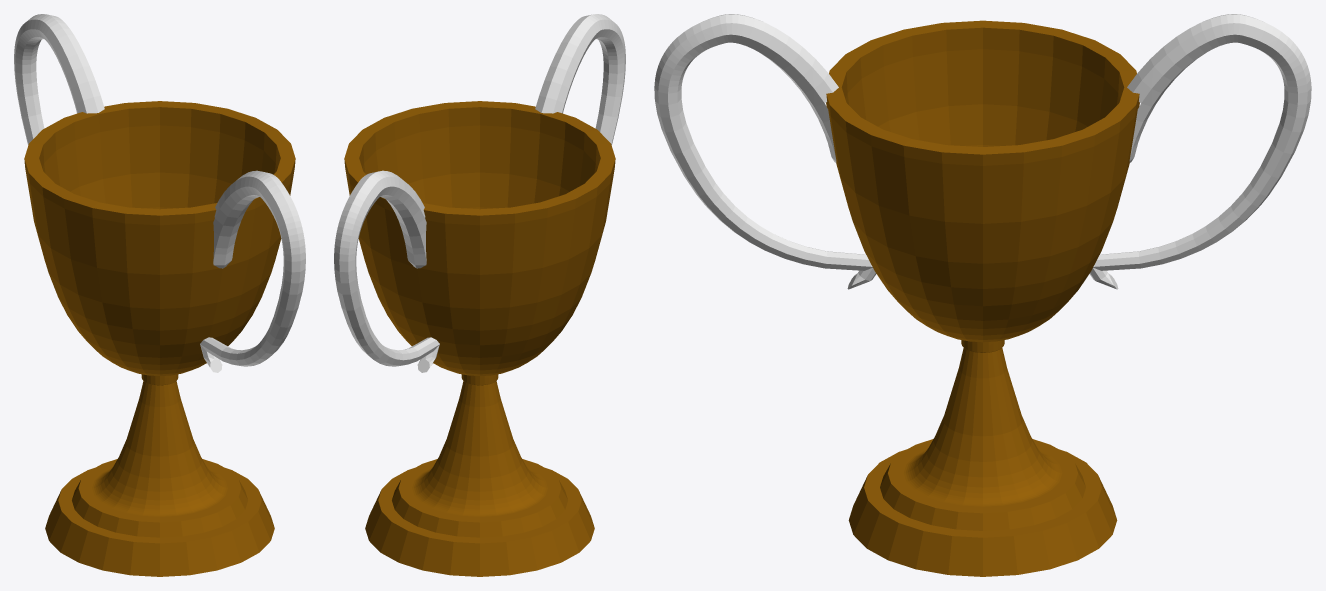
The model's file is trophy.glb.
3 renders of one model, left to right at view 1: azimuth 30°, elevation 25°; view 2: azimuth 150°, elevation 25°; view 3: azimuth 270°, elevation 25°, orthographic. The views are drawn at different scales.
Parts seen in each view (by area): view 1: Base, Handl, Handle; view 2: Base, Handle, Handl; view 3: Base, Handle, Handl.
Part boxes in pixels (<box>): Base: <box>24,101,295,576</box>; Handl: <box>200,170,305,372</box>; Handle: <box>14,14,104,144</box>; Base: <box>344,101,615,576</box>; Handle: <box>334,170,439,372</box>; Handl: <box>535,14,625,144</box>; Base: <box>826,20,1139,576</box>; Handle: <box>1089,14,1311,289</box>; Handl: <box>654,14,876,289</box>.
Size of the model in its own units: 200 by 352 by 414.
